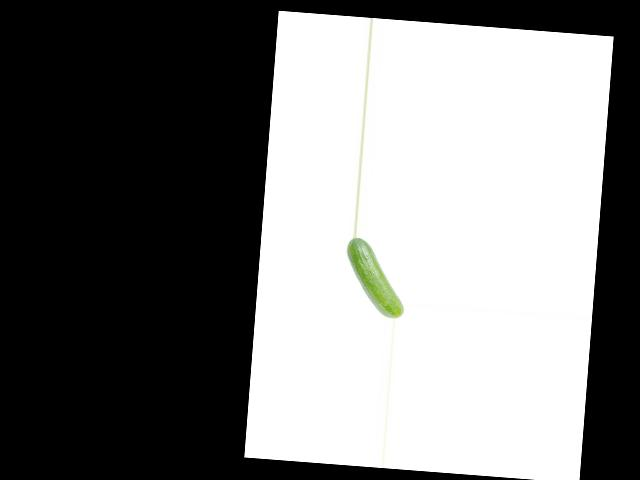cucumber: (341, 236, 408, 319)
